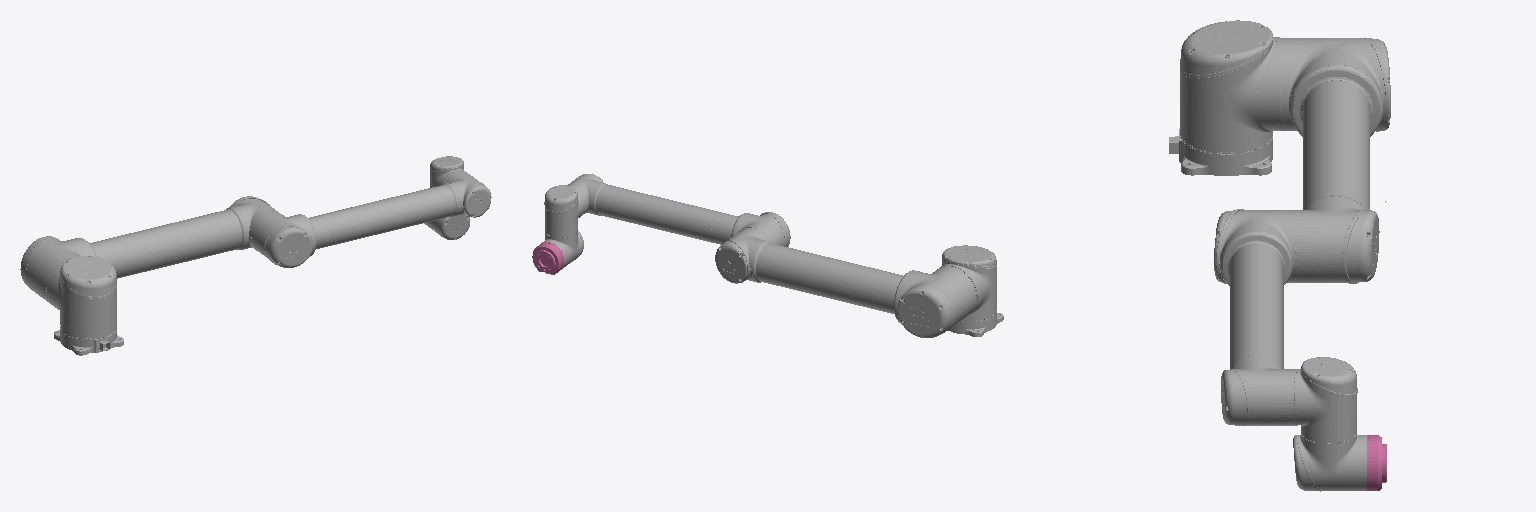
robot.urdf — ur10:
<?xml version="1.0" ?>
<!-- =================================================================================== -->
<!-- |    This document was autogenerated by xacro from urdf/ur10_robot.urdf.xacro     | -->
<!-- |    EDITING THIS FILE BY HAND IS NOT RECOMMENDED                                 | -->
<!-- =================================================================================== -->
<robot name="ur10" xmlns:xacro="http://www.ros.org/wiki/xacro">
  <!-- ur10 -->
  <!-- arm -->
  <link name="base_link">
    <visual>
      <geometry>
        <mesh filename="package://ur10_description/meshes/ur10/visual/Base.obj"/>
      </geometry>
      <material name="LightGrey">
        <color rgba="0.7 0.7 0.7 1.0"/>
      </material>
    </visual>
    <collision>
      <geometry>
        <mesh filename="package://meshes/ur10/collision/Base.obj"/>
      </geometry>
    </collision>
    <inertial>
      <mass value="4.0"/>
      <origin rpy="0 0 0" xyz="0.0 0.0 0.0"/>
      <inertia ixx="0.0061063308908" ixy="0.0" ixz="0.0" iyy="0.0061063308908" iyz="0.0" izz="0.01125"/>
    </inertial>
  </link>
  <joint name="shoulder_pan_joint" type="revolute">
    <parent link="base_link"/>
    <child link="shoulder_link"/>
    <origin rpy="0.0 0.0 0.0" xyz="0.0 0.0 0.1273"/>
    <axis xyz="0 0 1"/>
    <limit effort="330.0" lower="-6.2831853" upper="6.2831853" velocity="2.16"/>
    <dynamics damping="0.0" friction="0.0"/>
  </joint>
  <link name="shoulder_link">
    <visual>
      <geometry>
        <mesh filename="package://ur10_description/meshes/ur10/visual/Shoulder.obj"/>
      </geometry>
      <material name="LightGrey">
        <color rgba="0.7 0.7 0.7 1.0"/>
      </material>
    </visual>
    <collision>
      <geometry>
        <mesh filename="package://ur10_description/meshes/ur10/collision/Shoulder.obj"/>
      </geometry>
    </collision>
    <inertial>
      <mass value="7.778"/>
      <origin rpy="0 0 0" xyz="0.0 0.0 0.0"/>
      <inertia ixx="0.0314743125769" ixy="0.0" ixz="0.0" iyy="0.0314743125769" iyz="0.0" izz="0.021875625"/>
    </inertial>
  </link>
  <joint name="shoulder_lift_joint" type="revolute">
    <parent link="shoulder_link"/>
    <child link="upper_arm_link"/>
    <origin rpy="0.0 1.570796325 0.0" xyz="0.0 0.220941 0.0"/>
    <axis xyz="0 1 0"/>
    <limit effort="330.0" lower="-6.2831853" upper="6.2831853" velocity="2.16"/>
    <dynamics damping="0.0" friction="0.0"/>
  </joint>
  <link name="upper_arm_link">
    <visual>
      <geometry>
        <mesh filename="package://ur10_description/meshes/ur10/visual/UpperArm.obj"/>
      </geometry>
      <material name="LightGrey">
        <color rgba="0.7 0.7 0.7 1.0"/>
      </material>
    </visual>
    <collision>
      <geometry>
        <mesh filename="package://ur10_description/meshes/ur10/collision/UpperArm.obj"/>
      </geometry>
    </collision>
    <inertial>
      <mass value="12.93"/>
      <origin rpy="0 0 0" xyz="0.0 0.0 0.306"/>
      <inertia ixx="0.421753803798" ixy="0.0" ixz="0.0" iyy="0.421753803798" iyz="0.0" izz="0.036365625"/>
    </inertial>
  </link>
  <joint name="elbow_joint" type="revolute">
    <parent link="upper_arm_link"/>
    <child link="forearm_link"/>
    <origin rpy="0.0 0.0 0.0" xyz="0.0 -0.1719 0.612"/>
    <axis xyz="0 1 0"/>
    <limit effort="150.0" lower="-6.2831853" upper="6.2831853" velocity="3.15"/>
    <dynamics damping="0.0" friction="0.0"/>
  </joint>
  <link name="forearm_link">
    <visual>
      <geometry>
        <mesh filename="package://ur10_description/meshes/ur10/visual/ForeArm.obj"/>
      </geometry>
      <material name="LightGrey">
        <color rgba="0.7 0.7 0.7 1.0"/>
      </material>
    </visual>
    <collision>
      <geometry>
        <mesh filename="package://ur10_description/meshes/ur10/collision/ForeArm.obj"/>
      </geometry>
    </collision>
    <inertial>
      <mass value="3.87"/>
      <origin rpy="0 0 0" xyz="0.0 0.0 0.28615"/>
      <inertia ixx="0.111069694097" ixy="0.0" ixz="0.0" iyy="0.111069694097" iyz="0.0" izz="0.010884375"/>
    </inertial>
  </link>
  <joint name="wrist_1_joint" type="revolute">
    <parent link="forearm_link"/>
    <child link="wrist_1_link"/>
    <origin rpy="0.0 1.570796325 0.0" xyz="0.0 0.0 0.5723"/>
    <axis xyz="0 1 0"/>
    <limit effort="54.0" lower="-6.2831853" upper="6.2831853" velocity="3.2"/>
    <dynamics damping="0.0" friction="0.0"/>
  </joint>
  <link name="wrist_1_link">
    <visual>
      <geometry>
        <mesh filename="package://ur10_description/meshes/ur10/visual/Wrist1.obj"/>
      </geometry>
      <material name="LightGrey">
        <color rgba="0.7 0.7 0.7 1.0"/>
      </material>
    </visual>
    <collision>
      <geometry>
        <mesh filename="package://ur10_description/meshes/ur10/collision/Wrist1.obj"/>
      </geometry>
    </collision>
    <inertial>
      <mass value="1.96"/>
      <origin rpy="0 0 0" xyz="0.0 0.0 0.0"/>
      <inertia ixx="0.0051082479567" ixy="0.0" ixz="0.0" iyy="0.0051082479567" iyz="0.0" izz="0.0055125"/>
    </inertial>
  </link>
  <joint name="wrist_2_joint" type="revolute">
    <parent link="wrist_1_link"/>
    <child link="wrist_2_link"/>
    <origin rpy="0.0 0.0 0.0" xyz="0.0 0.1149 0.0"/>
    <axis xyz="0 0 1"/>
    <limit effort="54.0" lower="-6.2831853" upper="6.2831853" velocity="3.2"/>
    <dynamics damping="0.0" friction="0.0"/>
  </joint>
  <link name="wrist_2_link">
    <visual>
      <geometry>
        <mesh filename="package://ur10_description/meshes/ur10/visual/Wrist2.obj"/>
      </geometry>
      <material name="LightGrey">
        <color rgba="0.7 0.7 0.7 1.0"/>
      </material>
    </visual>
    <collision>
      <geometry>
        <mesh filename="package://ur10_description/meshes/ur10/collision/Wrist2.obj"/>
      </geometry>
    </collision>
    <inertial>
      <mass value="1.96"/>
      <origin rpy="0 0 0" xyz="0.0 0.0 0.0"/>
      <inertia ixx="0.0051082479567" ixy="0.0" ixz="0.0" iyy="0.0051082479567" iyz="0.0" izz="0.0055125"/>
    </inertial>
  </link>
  <joint name="wrist_3_joint" type="revolute">
    <parent link="wrist_2_link"/>
    <child link="wrist_3_link"/>
    <origin rpy="0.0 0.0 0.0" xyz="0.0 0.0 0.1157"/>
    <axis xyz="0 1 0"/>
    <limit effort="54.0" lower="-6.2831853" upper="6.2831853" velocity="3.2"/>
    <dynamics damping="0.0" friction="0.0"/>
  </joint>
  <link name="wrist_3_link">
    <visual>
      <geometry>
        <mesh filename="package://ur10_description/meshes/ur10/visual/Wrist3.obj"/>
      </geometry>
    </visual>
    <collision>
      <geometry>
        <mesh filename="package://ur10_description/meshes/ur10/collision/Wrist3.obj"/>
      </geometry>
      <material name="LightGrey">
        <color rgba="0.7 0.7 0.7 1.0"/>
      </material>
    </collision>
    <inertial>
      <mass value="0.202"/>
      <origin rpy="0 0 0" xyz="0.0 0.0 0.0"/>
      <inertia ixx="0.000526462289415" ixy="0.0" ixz="0.0" iyy="0.000526462289415" iyz="0.0" izz="0.000568125"/>
    </inertial>
  </link>
  <joint name="ee_fixed_joint" type="fixed">
    <parent link="wrist_3_link"/>
    <child link="ee_link"/>
    <origin rpy="0.0 0.0 1.570796325" xyz="0.0 0.0922 0.0"/>
  </joint>
  <link name="ee_link"/>
  <transmission name="shoulder_pan_trans">
    <type>transmission_interface/SimpleTransmission</type>
    <joint name="shoulder_pan_joint"/>
    <actuator name="shoulder_pan_motor">
      <hardwareInterface>EffortJointInterface</hardwareInterface>
      <mechanicalReduction>1</mechanicalReduction>
    </actuator>
  </transmission>
  <transmission name="shoulder_lift_trans">
    <type>transmission_interface/SimpleTransmission</type>
    <joint name="shoulder_lift_joint"/>
    <actuator name="shoulder_lift_motor">
      <hardwareInterface>EffortJointInterface</hardwareInterface>
      <mechanicalReduction>1</mechanicalReduction>
    </actuator>
  </transmission>
  <transmission name="elbow_trans">
    <type>transmission_interface/SimpleTransmission</type>
    <joint name="elbow_joint"/>
    <actuator name="elbow_motor">
      <hardwareInterface>EffortJointInterface</hardwareInterface>
      <mechanicalReduction>1</mechanicalReduction>
    </actuator>
  </transmission>
  <transmission name="wrist_1_trans">
    <type>transmission_interface/SimpleTransmission</type>
    <joint name="wrist_1_joint"/>
    <actuator name="wrist_1_motor">
      <hardwareInterface>EffortJointInterface</hardwareInterface>
      <mechanicalReduction>1</mechanicalReduction>
    </actuator>
  </transmission>
  <transmission name="wrist_2_trans">
    <type>transmission_interface/SimpleTransmission</type>
    <joint name="wrist_2_joint"/>
    <actuator name="wrist_2_motor">
      <hardwareInterface>EffortJointInterface</hardwareInterface>
      <mechanicalReduction>1</mechanicalReduction>
    </actuator>
  </transmission>
  <transmission name="wrist_3_trans">
    <type>transmission_interface/SimpleTransmission</type>
    <joint name="wrist_3_joint"/>
    <actuator name="wrist_3_motor">
      <hardwareInterface>EffortJointInterface</hardwareInterface>
      <mechanicalReduction>1</mechanicalReduction>
    </actuator>
  </transmission>
  <link name="world"/>
  <joint name="world_joint" type="fixed">
    <parent link="world"/>
    <child link="base_link"/>
    <origin rpy="0.0 0.0 0.0" xyz="0.0 0.0 0.0"/>
  </joint>
</robot>

--- Render facts (derived) ---
3 views of the same robot in one strip: view 1: azimuth 30°, elevation 25°; view 2: azimuth 150°, elevation 25°; view 3: azimuth 270°, elevation 25° (orthographic).
Model ur10 with 9 links and 8 joints (6 revolute, 2 fixed), rooted at world, posed every joint at zero.
Links seen in each view (by area): view 1: upper_arm_link, forearm_link, shoulder_link, base_link, wrist_2_link, wrist_1_link; view 2: upper_arm_link, forearm_link, shoulder_link, wrist_1_link, wrist_3_link, wrist_2_link, base_link; view 3: upper_arm_link, forearm_link, shoulder_link, wrist_1_link, wrist_2_link, base_link, wrist_3_link.
Link boxes in pixels (box(x1,y1,x2,y2)): upper_arm_link: box(20, 196, 278, 304); forearm_link: box(249, 171, 491, 267); shoulder_link: box(48, 256, 116, 339); base_link: box(54, 328, 123, 355); wrist_2_link: box(424, 214, 469, 239); wrist_1_link: box(430, 156, 463, 187); upper_arm_link: box(711, 229, 976, 337); forearm_link: box(567, 174, 790, 246); shoulder_link: box(940, 245, 996, 321); wrist_1_link: box(544, 185, 585, 237); wrist_3_link: box(532, 242, 563, 274); wrist_2_link: box(542, 231, 583, 269); base_link: box(948, 313, 1003, 336); upper_arm_link: box(1280, 38, 1390, 283); forearm_link: box(1214, 209, 1298, 425); shoulder_link: box(1180, 20, 1279, 154); wrist_1_link: box(1295, 357, 1357, 443); wrist_2_link: box(1293, 435, 1366, 491); base_link: box(1169, 129, 1272, 175); wrist_3_link: box(1367, 435, 1386, 490).
Bounding box of the posed robot: 1.31 × 0.3551 × 0.2635 m (x, y, z).
Meshes: 7 distinct files referenced, 7 mesh visuals loaded (7 OBJ).
